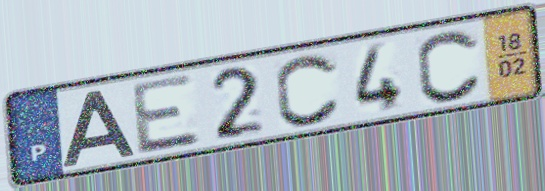2: (209, 64, 268, 142)
4: (352, 41, 406, 112)
A: (59, 87, 139, 170)
C: (273, 51, 344, 129), (414, 27, 485, 105)
E: (127, 71, 205, 158)
